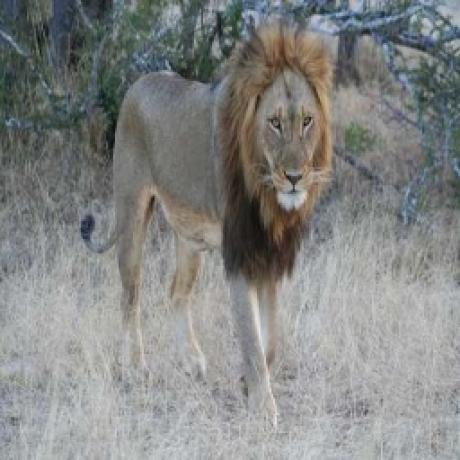Lion: (79, 23, 340, 417)
